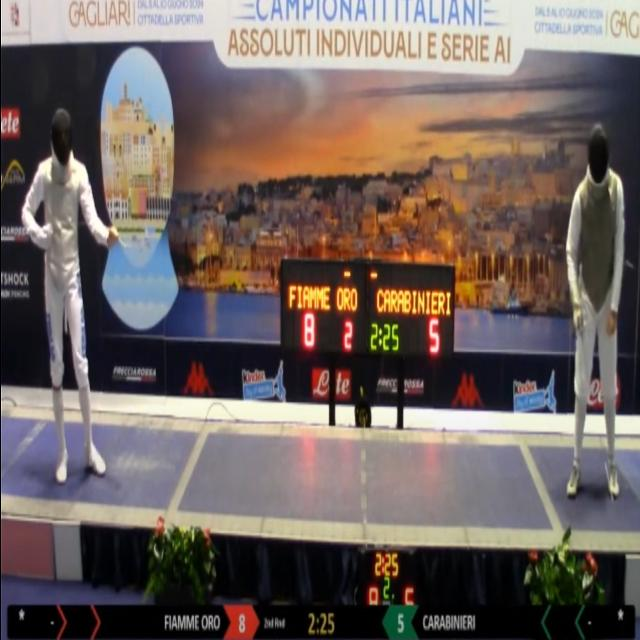fencer: (19, 108, 119, 485), (560, 119, 628, 509)
overlayLeft: (101, 605, 221, 640)
overlayRight: (423, 609, 541, 640)
scoreLeft: (222, 605, 260, 640)
scoreRight: (380, 606, 423, 640)
